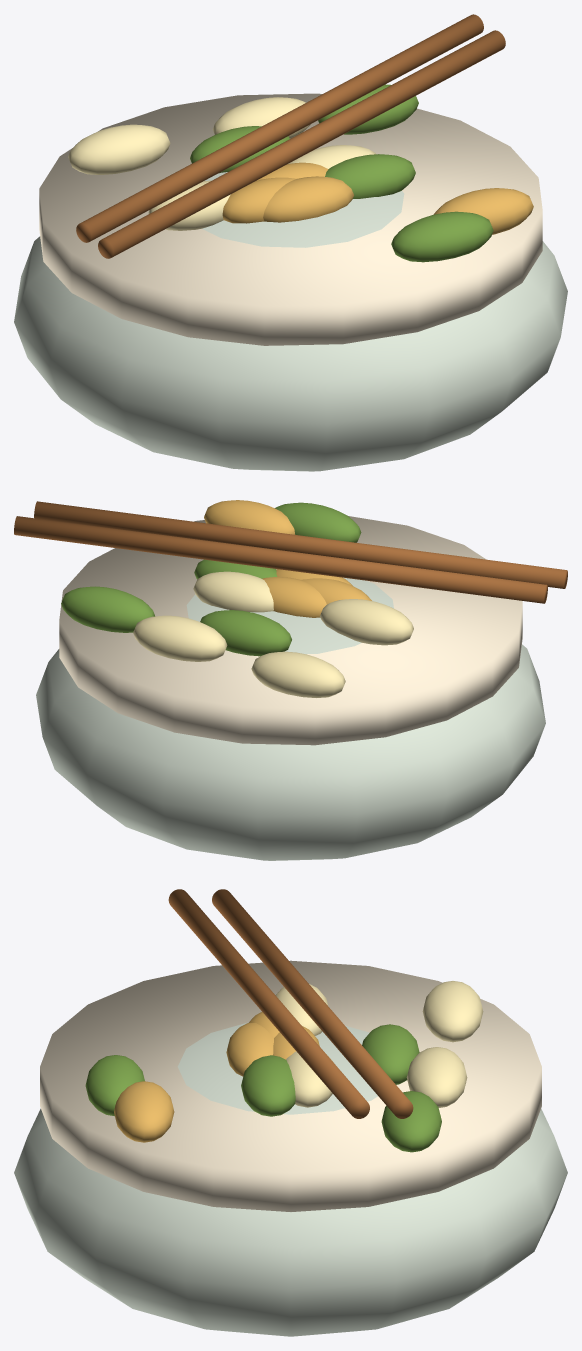
The model's file is rice.glb.
The picture shows the model from 3 angles, top to bottom: view 1: azimuth 30°, elevation 25°; view 2: azimuth 150°, elevation 25°; view 3: azimuth 270°, elevation 25°; orthographic projection. The views are drawn at different scales.
Parts seen in each view (by area): view 1: Ceramic bowl, Rice, Chopstick, Chopstick.001, Topping.005, Topping.009, Topping.004, Topping.006, Topping.001, Topping.008, Topping.007, Topping.003 (+4 smaller); view 2: Ceramic bowl, Rice, Chopstick, Chopstick.001, Topping.008, Topping.005, Topping.002, Topping.003, Topping, Topping.011, Topping.009, Topping.001 (+3 smaller); view 3: Ceramic bowl, Rice, Chopstick, Chopstick.001, Topping.005, Topping.001, Topping.006, Topping.008, Topping.003, Topping.009, Topping, Topping.004 (+2 smaller).
Part boxes in pixels (x1=…): Ceramic bowl: x1=14, y1=172, x2=567, y2=471; Rice: x1=39, y1=93, x2=542, y2=345; Chopstick: x1=76, y1=14, x2=483, y2=242; Chopstick.001: x1=98, y1=30, x2=505, y2=258; Topping.005: x1=68, y1=124, x2=170, y2=174; Topping.009: x1=391, y1=211, x2=493, y2=262; Topping.004: x1=263, y1=176, x2=353, y2=222; Topping.006: x1=325, y1=154, x2=415, y2=198; Topping.001: x1=433, y1=188, x2=533, y2=234; Topping.008: x1=212, y1=97, x2=310, y2=138; Topping.007: x1=222, y1=177, x2=296, y2=223; Topping.003: x1=318, y1=84, x2=418, y2=134; Ceramic bowl: x1=36, y1=569, x2=545, y2=860; Rice: x1=59, y1=516, x2=522, y2=745; Chopstick: x1=14, y1=516, x2=547, y2=603; Chopstick.001: x1=34, y1=501, x2=567, y2=588; Topping.008: x1=133, y1=615, x2=227, y2=661; Topping.005: x1=251, y1=651, x2=345, y2=697; Topping.002: x1=320, y1=599, x2=413, y2=645; Topping.003: x1=61, y1=586, x2=154, y2=632; Topping: x1=200, y1=610, x2=291, y2=656; Topping.011: x1=193, y1=571, x2=273, y2=612; Topping.009: x1=275, y1=502, x2=361, y2=542; Topping.001: x1=204, y1=500, x2=295, y2=534; Ceramic bowl: x1=14, y1=1022, x2=567, y2=1336; Rice: x1=40, y1=960, x2=541, y2=1211; Chopstick: x1=212, y1=889, x2=413, y2=1118; Chopstick.001: x1=168, y1=889, x2=369, y2=1118; Topping.005: x1=422, y1=981, x2=483, y2=1042; Topping.001: x1=114, y1=1081, x2=174, y2=1142; Topping.006: x1=241, y1=1055, x2=295, y2=1116; Topping.008: x1=406, y1=1047, x2=467, y2=1107; Topping.003: x1=381, y1=1091, x2=441, y2=1152; Topping.009: x1=85, y1=1055, x2=144, y2=1116; Topping: x1=362, y1=1024, x2=419, y2=1084; Topping.004: x1=226, y1=1023, x2=273, y2=1076.
Size of the model in its own units: 0.6475 by 0.392 by 0.64.
